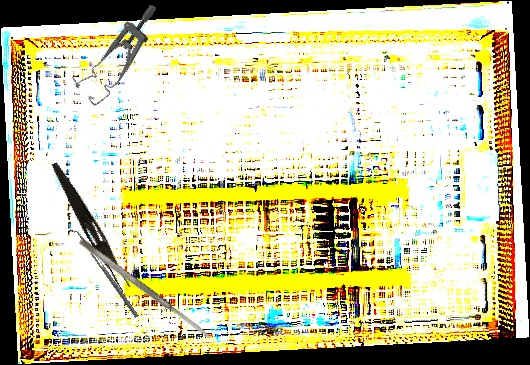Dressing Forceps: (44, 160, 136, 293)
Spatula Surgical: (77, 236, 214, 343), (69, 225, 139, 321)
Speculum: (63, 2, 181, 109)
